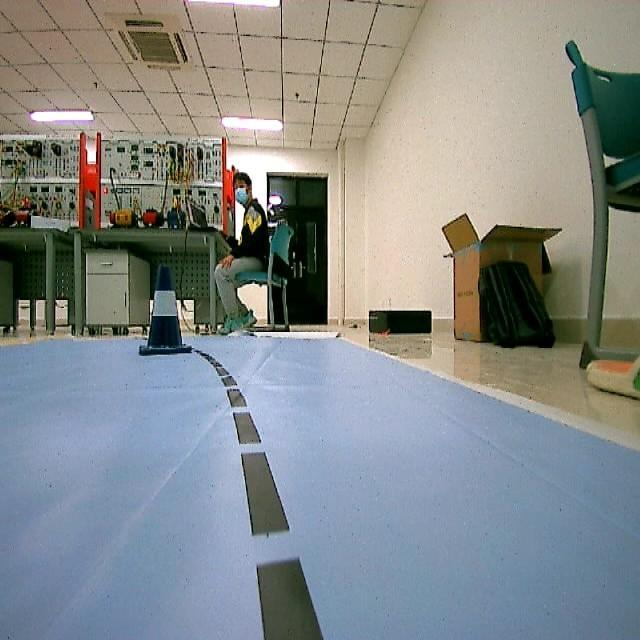obstacle: (135, 264, 188, 356)
